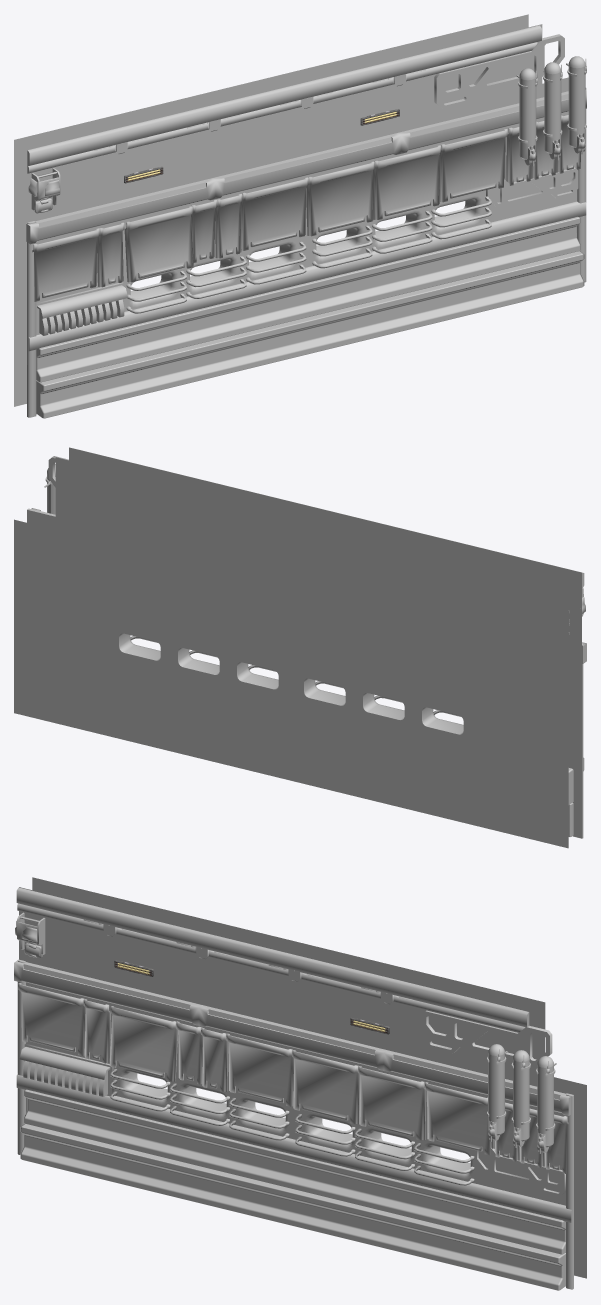
Rendered from Wall_Assembled_05.fbx.
The picture shows the model from 3 angles, top to bottom: view 1: azimuth 30°, elevation 25°; view 2: azimuth 150°, elevation 25°; view 3: azimuth 330°, elevation 25°; orthographic projection.
Parts seen in each view (by area): view 1: Wall_03.012, Wall_03.014, Wall_02.083, Wall_02.082, Wall_02.084, Wall_05_Window.005, Wall_05_Window.004, Trim_01.033, Trim_01.032, Shade_Flat.051, Trim_02.031, Trim_02.032 (+27 smaller); view 2: Wall_05_Window.004, Wall_05_Window.005, Wall_02.081, Wall_02.080, Wall_02.082, Wall_02.083, Wall_02.084, Trim_04.014; view 3: Wall_03.012, Wall_03.014, Wall_02.083, Wall_02.082, Wall_02.084, Wall_05_Window.004, Wall_05_Window.005, Wall_02.080, Trim_01.033, Trim_01.032, Shade_Flat.051, Trim_01.034 (+27 smaller).
Part boxes in pixels (x1,y1,x2,y2): Wall_03.012: (36, 251, 584, 418); Wall_03.014: (36, 217, 580, 382); Wall_02.083: (199, 49, 398, 176); Wall_02.082: (14, 94, 212, 222); Wall_02.084: (385, 14, 542, 131); Wall_05_Window.005: (305, 109, 491, 267); Wall_05_Window.004: (120, 154, 305, 311); Trim_01.033: (27, 82, 307, 166); Trim_01.032: (306, 201, 586, 282); Shade_Flat.051: (124, 206, 193, 282); Trim_02.031: (26, 178, 215, 244); Trim_02.032: (212, 133, 401, 198); Wall_05_Window.004: (291, 587, 476, 825); Wall_05_Window.005: (106, 542, 291, 780); Wall_02.081: (476, 632, 581, 848); Wall_02.080: (14, 510, 106, 735); Wall_02.082: (384, 527, 581, 654); Wall_02.083: (199, 482, 397, 609); Wall_02.084: (55, 447, 212, 564); Trim_04.014: (575, 643, 583, 838); Wall_03.012: (20, 1123, 565, 1290); Wall_03.014: (24, 1089, 565, 1254); Wall_02.083: (203, 922, 401, 1049); Wall_02.082: (19, 877, 216, 1004); Wall_02.084: (388, 967, 545, 1084); Wall_05_Window.004: (111, 982, 296, 1139); Wall_05_Window.005: (296, 1027, 481, 1184); Wall_02.080: (481, 1072, 586, 1278); Trim_01.033: (16, 887, 295, 970); Trim_01.032: (294, 1141, 571, 1222); Shade_Flat.051: (109, 1006, 178, 1081); Trim_01.034: (294, 955, 529, 1027).
Bounding box in the file's own units: 12.03 × 5.5 × 1.13.
